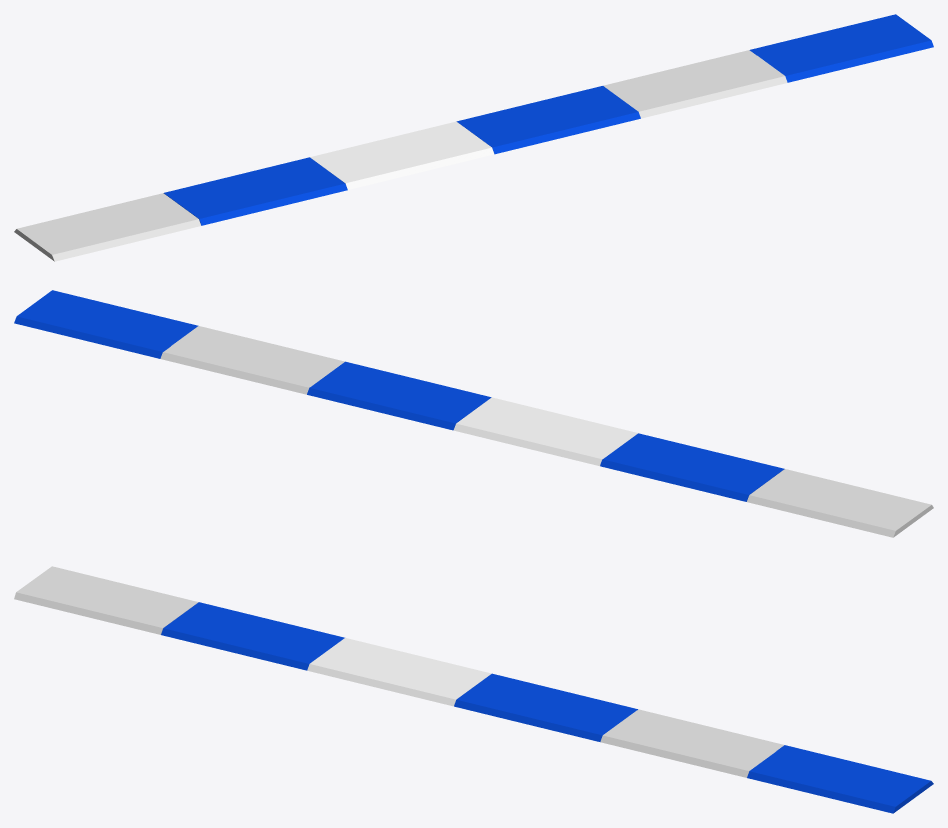
Rendered from roadCornerLargeblue6.fbx.
3 renders of one model, top to bottom at view 1: azimuth 30°, elevation 25°; view 2: azimuth 150°, elevation 25°; view 3: azimuth 330°, elevation 25°, orthographic.
Visible parts, largest first — view 1: Cube.003, Cube.004, Cube, Cube.001, Cube.002, Cube.005; view 2: Cube.003, Cube, Cube.004, Cube.002, Cube.005, Cube.001; view 3: Cube.005, Cube.003, Cube, Cube.002, Cube.004, Cube.001.
Part boxes in pixels (box(x1,y1,x2,y2)): Cube.003: box(14, 193, 201, 261); Cube.004: box(456, 86, 640, 154); Cube: box(310, 121, 494, 189); Cube.001: box(163, 157, 347, 225); Cube.002: box(603, 50, 787, 118); Cube.005: box(749, 14, 933, 82); Cube.003: box(747, 469, 933, 537); Cube: box(453, 397, 638, 466); Cube.004: box(307, 361, 491, 430); Cube.002: box(160, 326, 344, 394); Cube.005: box(14, 290, 198, 358); Cube.001: box(600, 433, 784, 501); Cube.005: box(747, 745, 933, 813); Cube.003: box(14, 566, 198, 634); Cube: box(307, 638, 491, 706); Cube.002: box(600, 709, 784, 777); Cube.004: box(454, 673, 637, 741); Cube.001: box(161, 602, 344, 670).
Bounding box in the file's own units: 2493 × 13.87 × 200.
